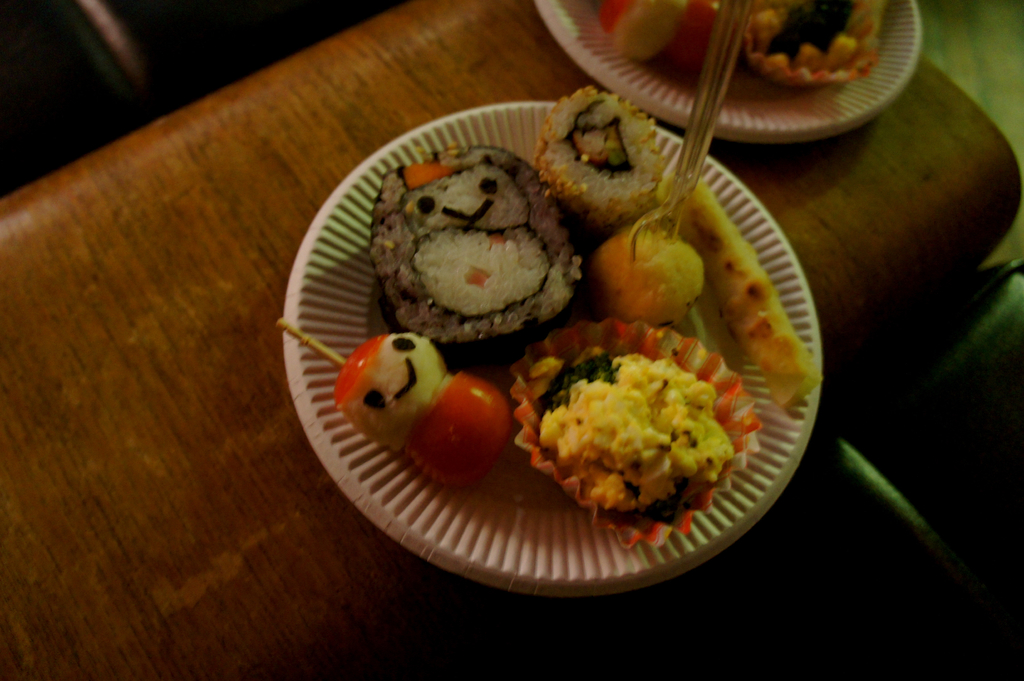sushi: (391, 140, 582, 356), (535, 93, 662, 230)
